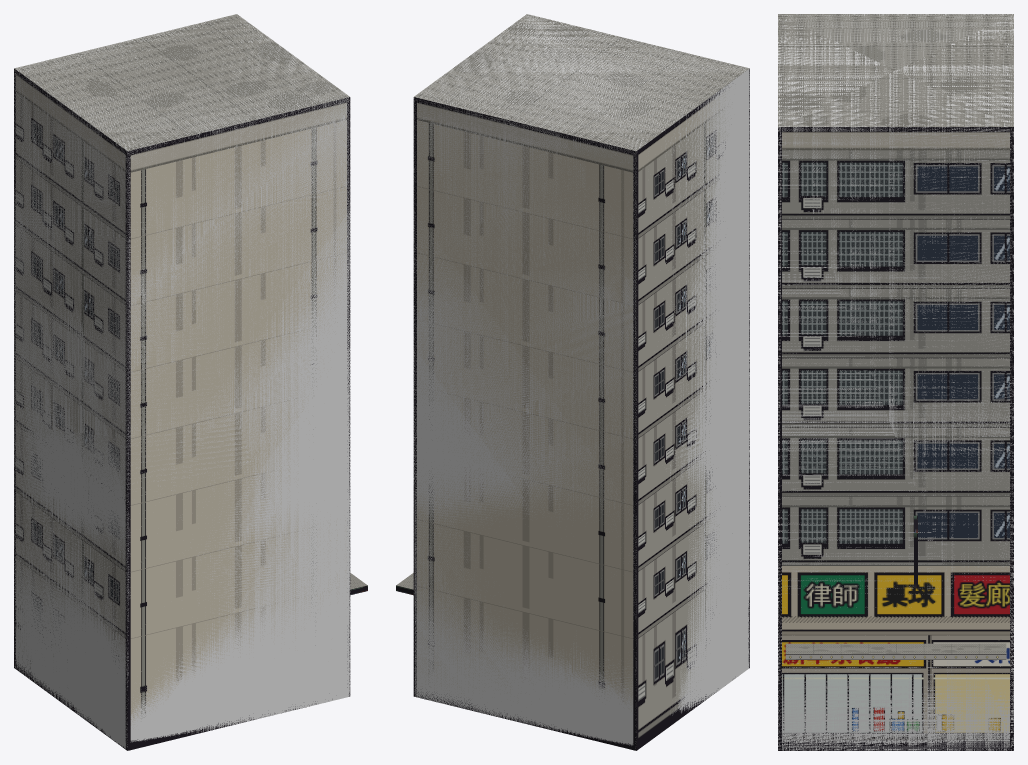
The picture shows the model from 3 angles, left to right: view 1: azimuth 30°, elevation 25°; view 2: azimuth 150°, elevation 25°; view 3: azimuth 270°, elevation 25°; orthographic projection. The views are drawn at different scales.
Visible parts, largest first — view 1: 19D-E07, COL_19D-E07_0; view 2: 19D-E07, COL_19D-E07_0; view 3: 19D-E07, COL_19D-E07_0.
Part boxes in pixels (x1,y1,x2,y2): 19D-E07: (14,14,367,750); COL_19D-E07_0: (14,14,350,748); 19D-E07: (396,14,749,750); COL_19D-E07_0: (413,14,749,748); 19D-E07: (778,14,1013,750); COL_19D-E07_0: (778,14,1013,750).
Bounding box in the file's own units: 12.35 × 27 × 9.25.
1 material, 1 textured.
